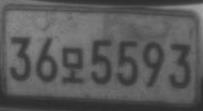3: (9, 35, 32, 81), (169, 43, 192, 89)
5: (116, 40, 139, 86), (90, 39, 112, 85)
6: (35, 36, 57, 82)
9: (141, 41, 165, 88)
모: (60, 46, 85, 84)
